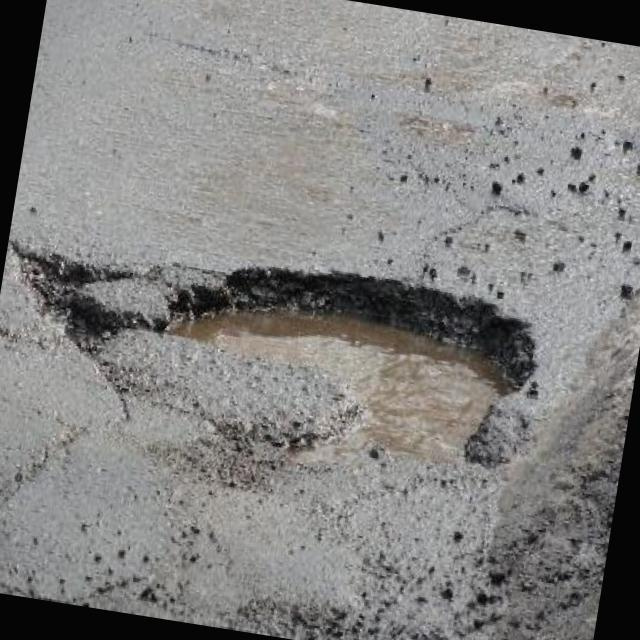Lubang: (14, 245, 535, 464)
